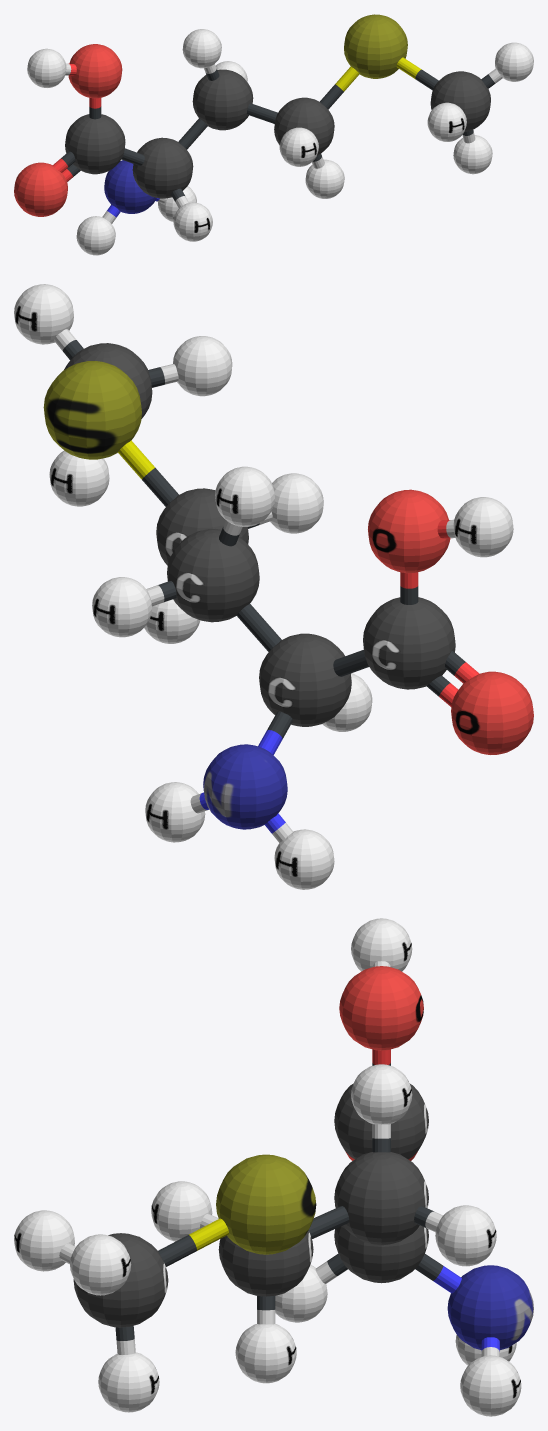
Rendered from Metionina.fbx.
3 views of the same model, one above another, from view 1: azimuth 30°, elevation 25°; view 2: azimuth 150°, elevation 25°; view 3: azimuth 270°, elevation 25° (orthographic). The views are drawn at different scales.
Parts seen in each view (by area): view 1: Shape_Sphere.025; view 2: Shape_Sphere.025; view 3: Shape_Sphere.025.
Part boxes in pixels (bbox=[...]): Shape_Sphere.025: bbox=[14, 14, 533, 255]; Shape_Sphere.025: bbox=[14, 284, 533, 889]; Shape_Sphere.025: bbox=[14, 918, 533, 1416].
Bounding box in the file's own units: 24.52 × 13.72 × 16.79.
10 materials, 5 textured.
